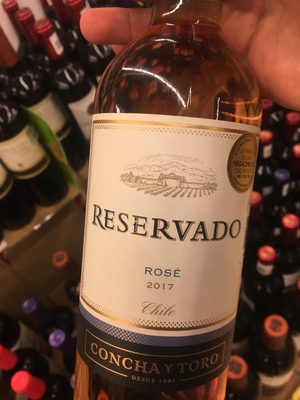reservado rose: (76, 38, 260, 400)
